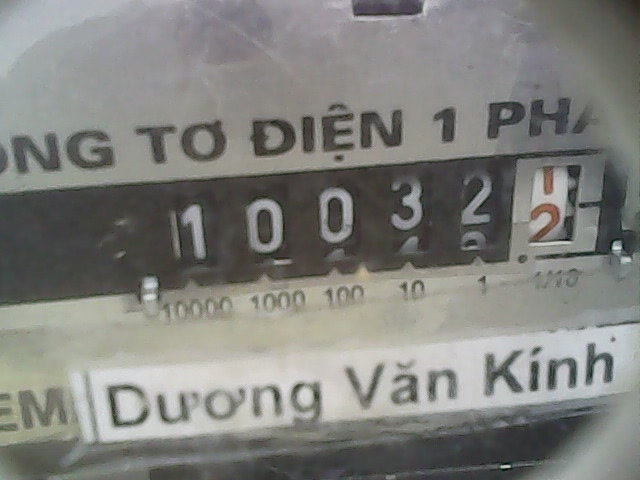phy_plate: (158, 150, 610, 274)
